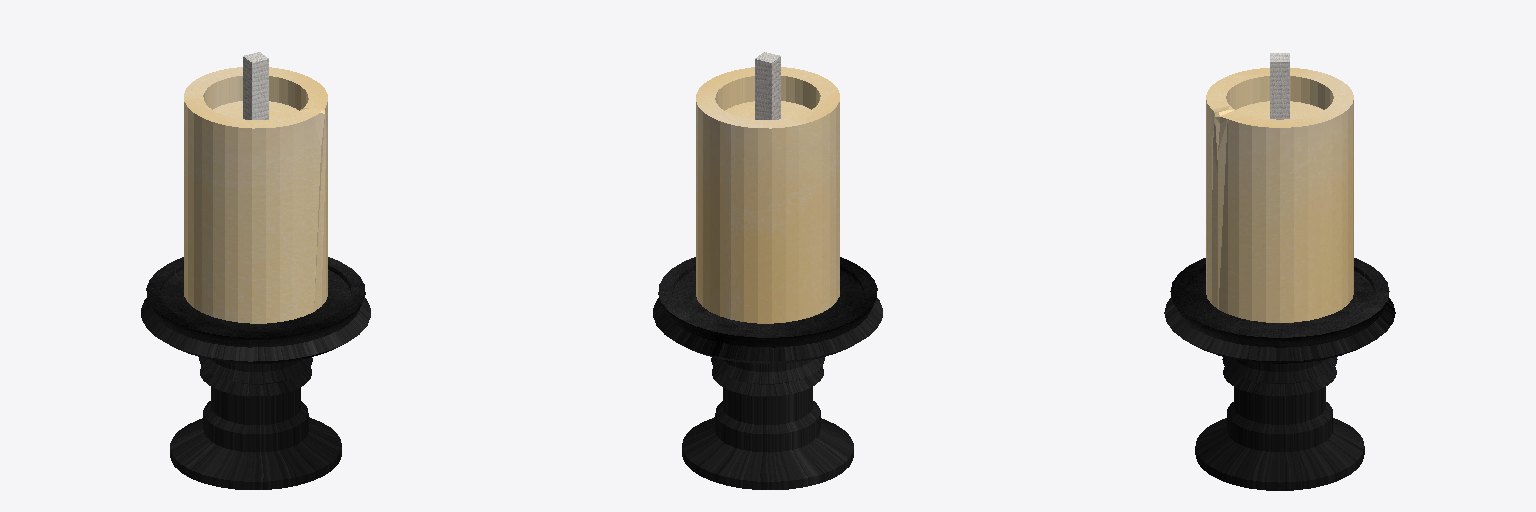
The picture shows the model from 3 angles: view 1: azimuth 30°, elevation 25°; view 2: azimuth 150°, elevation 25°; view 3: azimuth 270°, elevation 25°; orthographic projection.
Visible parts, largest first — view 1: Cylinder, Cylinder.001, Cube; view 2: Cylinder, Cylinder.001, Cube; view 3: Cylinder, Cylinder.001, Cube.
Part boxes in pixels (x1,y1,x2,y2): Cylinder: (184,67,327,323); Cylinder.001: (141,257,370,489); Cube: (243,52,268,119); Cylinder: (696,67,839,323); Cylinder.001: (653,257,882,489); Cube: (755,52,780,119); Cylinder: (1206,68,1353,322); Cylinder.001: (1164,258,1395,490); Cube: (1270,53,1289,119).
Size of the model in its own units: 1.88 by 3.58 by 1.89.
3 materials, 3 textured.